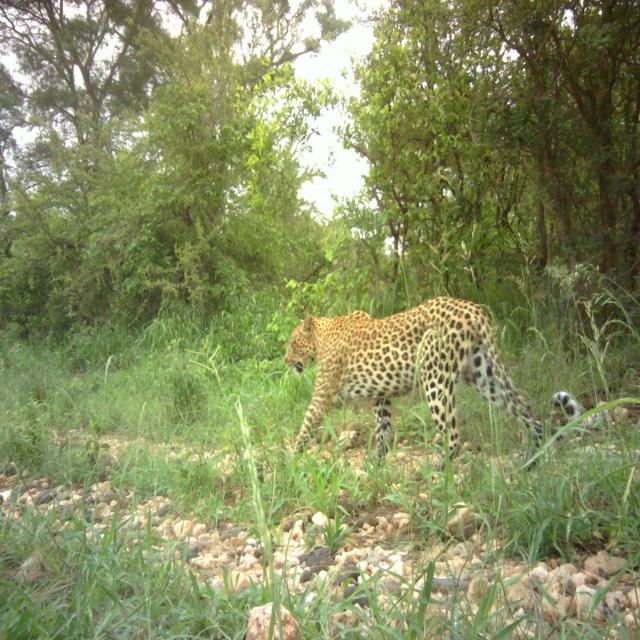Leopard: (270, 298, 598, 493)
